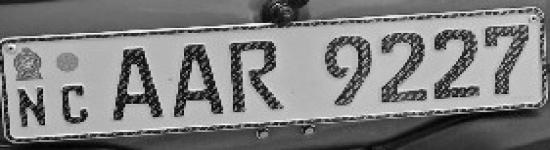2: (376, 26, 431, 105), (430, 24, 484, 104)
7: (481, 21, 536, 100)
9: (315, 28, 376, 112)
A: (101, 43, 172, 124), (169, 41, 229, 122)
C: (58, 80, 97, 129)
N: (14, 85, 53, 130)
R: (227, 35, 294, 118)
